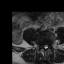CCS_stenosis: (44, 43, 46, 50)
LFS_severe_stenosis: (48, 43, 49, 47)
LLS_normal: (46, 43, 48, 49)
RFS_severe_stenosis: (40, 43, 43, 47)
RLS_stenosis: (43, 43, 44, 49)
